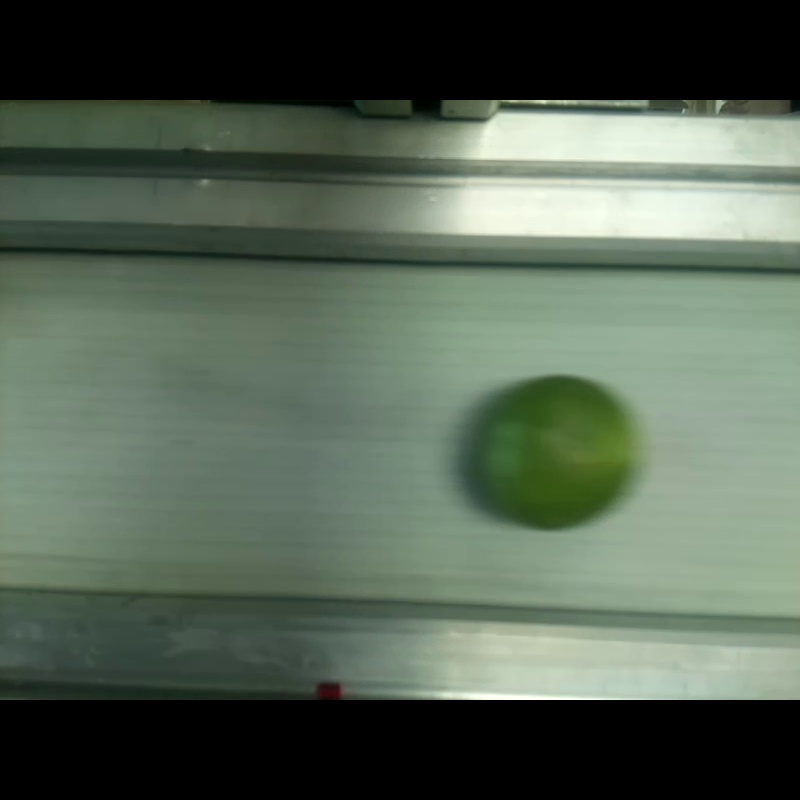lime: (477, 373, 630, 530)
